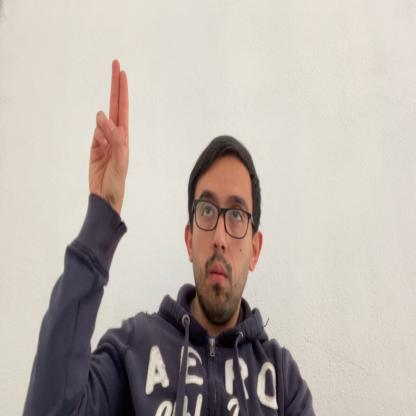U: (88, 57, 130, 211)
